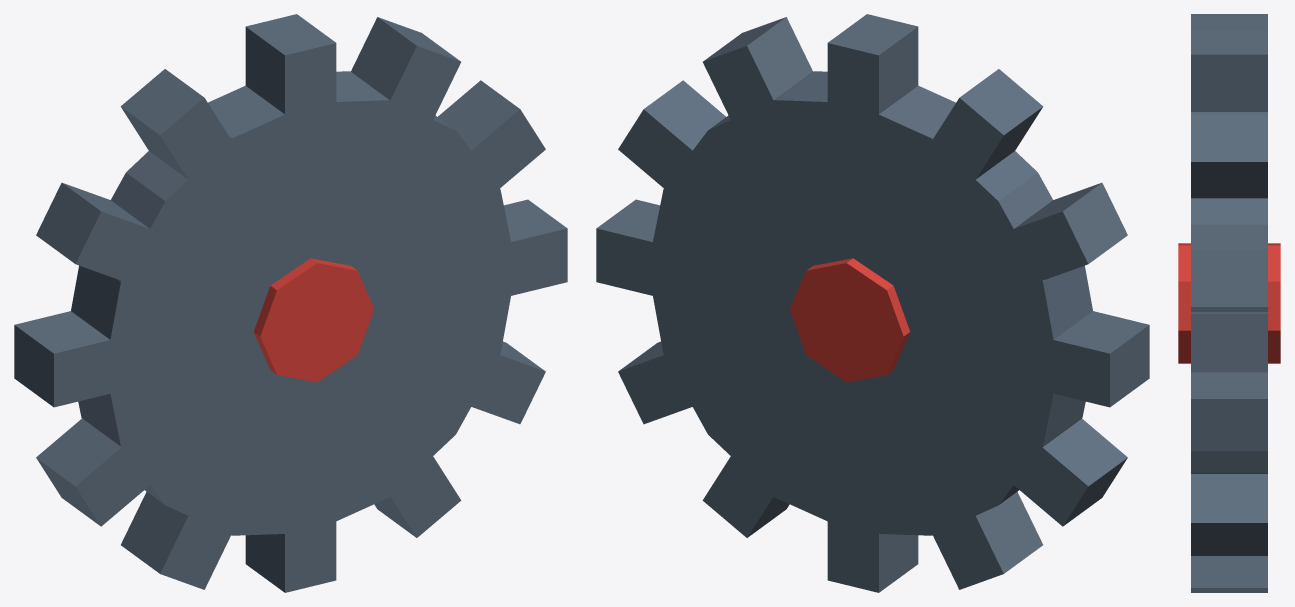
Rendered from robot_gear_large.glb.
The picture shows the model from 3 angles, left to right: view 1: azimuth 30°, elevation 25°; view 2: azimuth 150°, elevation 25°; view 3: azimuth 270°, elevation 25°; orthographic projection. The views are drawn at different scales.
Parts seen in each view (by area): view 1: robot_gear_large_steel, robot_gear_large_red; view 2: robot_gear_large_steel, robot_gear_large_red; view 3: robot_gear_large_steel, robot_gear_large_red.
Boxes of the visible parts, left/top/right/bottom form: robot_gear_large_steel: left=14, top=14, right=567, bottom=592; robot_gear_large_red: left=254, top=258, right=374, bottom=382; robot_gear_large_steel: left=596, top=14, right=1149, bottom=592; robot_gear_large_red: left=789, top=258, right=909, bottom=382; robot_gear_large_steel: left=1191, top=14, right=1267, bottom=592; robot_gear_large_red: left=1178, top=243, right=1280, bottom=363.
Size of the model in its own units: 4.5 by 4.5 by 0.8.
